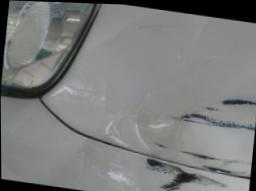Bumper: (54, 145, 245, 191)
Fender: (28, 1, 256, 177)
